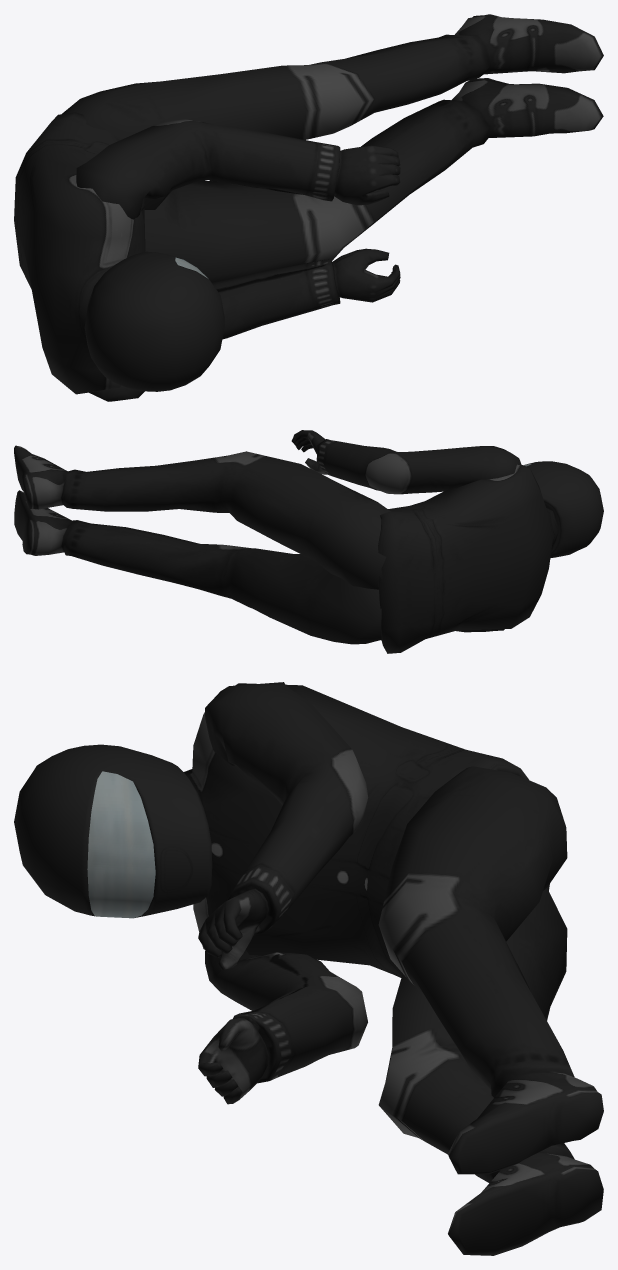
File: Driver.obj
The picture shows the model from 3 angles, top to bottom: view 1: azimuth 30°, elevation 25°; view 2: azimuth 150°, elevation 25°; view 3: azimuth 270°, elevation 25°; orthographic projection. The views are drawn at different scales.
Visible parts, largest first — view 1: Driver001; view 2: Driver001; view 3: Driver001.
Boxes of the visible parts, <box> form: Driver001: <box>14,14,603,401</box>; Driver001: <box>14,430,603,653</box>; Driver001: <box>14,682,603,1255</box>.
Size of the model in its own units: 1.38 by 0.493 by 0.8408.
6 materials, 6 textured.
